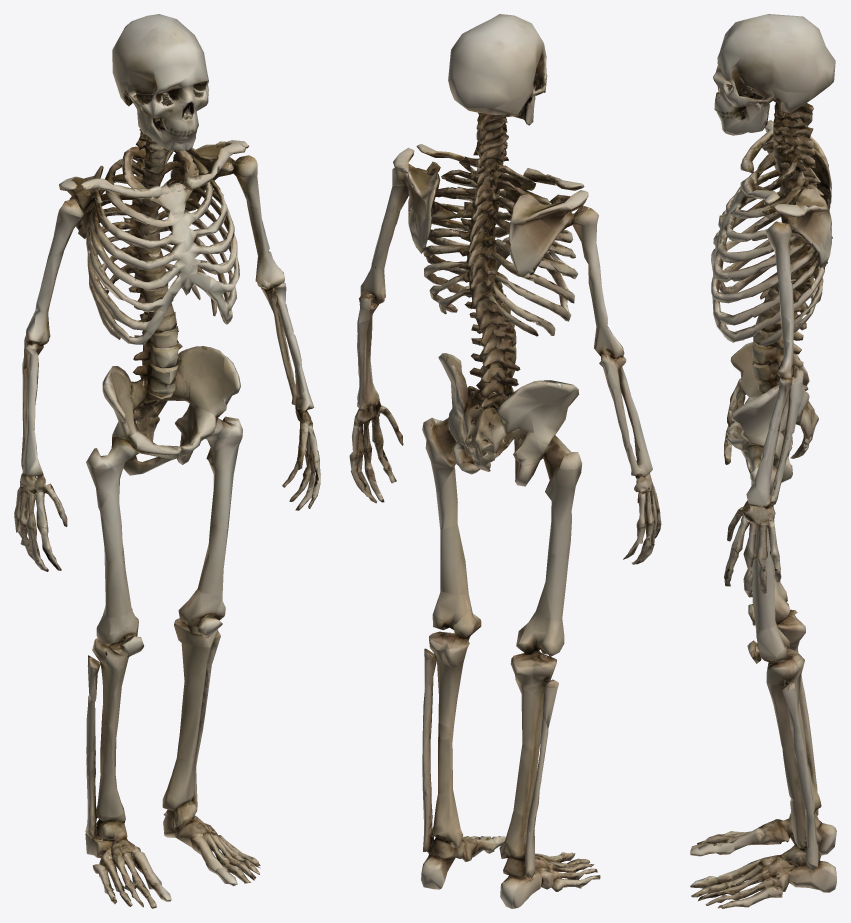
The model's file is crew-skelA.glb.
The picture shows the model from 3 angles, left to right: view 1: azimuth 30°, elevation 25°; view 2: azimuth 150°, elevation 25°; view 3: azimuth 270°, elevation 25°; orthographic projection.
Bounding box in the file's own units: 0.6884 × 1.9 × 0.2951.
Materials: 1 (1 with a texture image).
